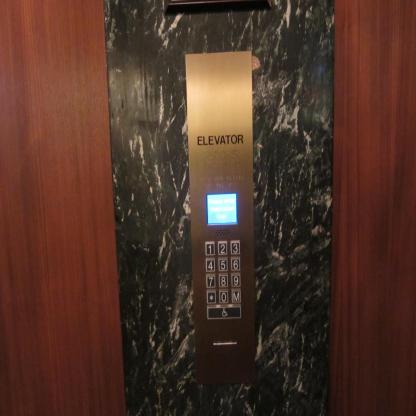0: (218, 288, 229, 304)
1: (205, 241, 215, 256)
2: (218, 241, 228, 255)
3: (230, 240, 240, 255)
4: (206, 258, 216, 272)
5: (218, 257, 228, 272)
6: (230, 256, 241, 271), (219, 273, 228, 288)
7: (206, 274, 216, 288)
9: (231, 272, 240, 287)
CH: (207, 305, 241, 319)
M: (231, 288, 241, 302)
led: (205, 192, 238, 225)
s: (206, 289, 216, 304)
